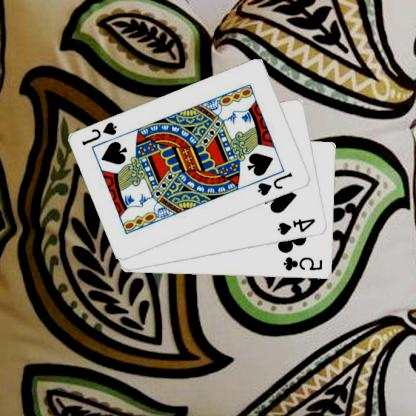4S: (277, 217, 319, 237)
5C: (282, 255, 326, 272)
JS: (81, 120, 120, 148), (256, 170, 296, 197)
